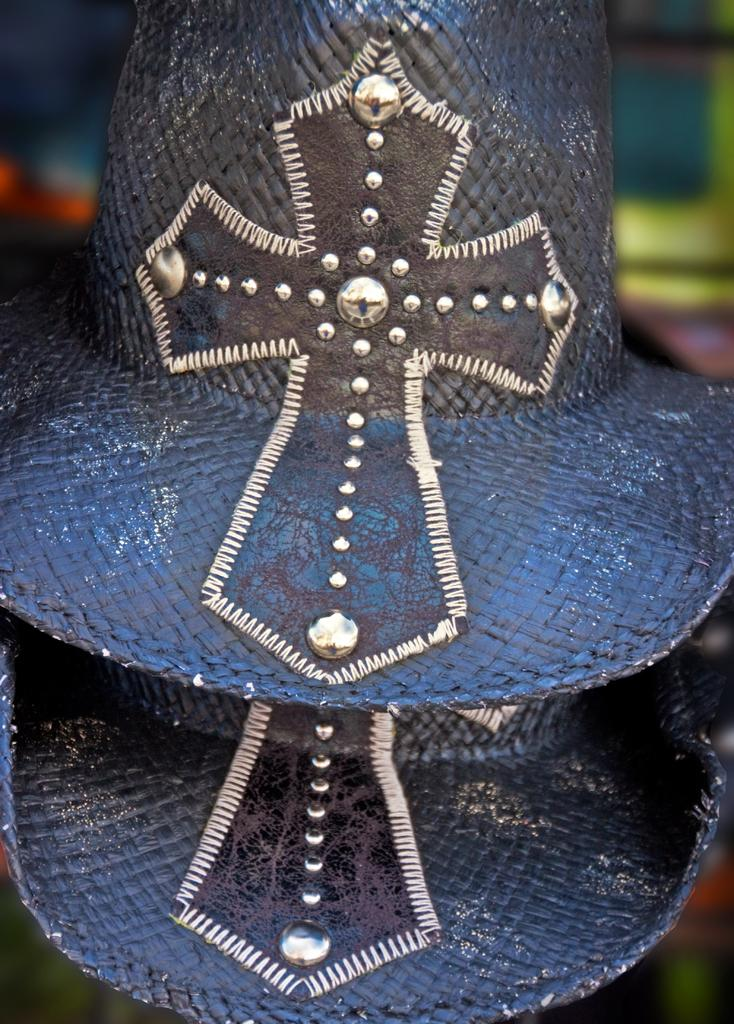Hat: (0, 0, 733, 710), (0, 659, 733, 1023)
